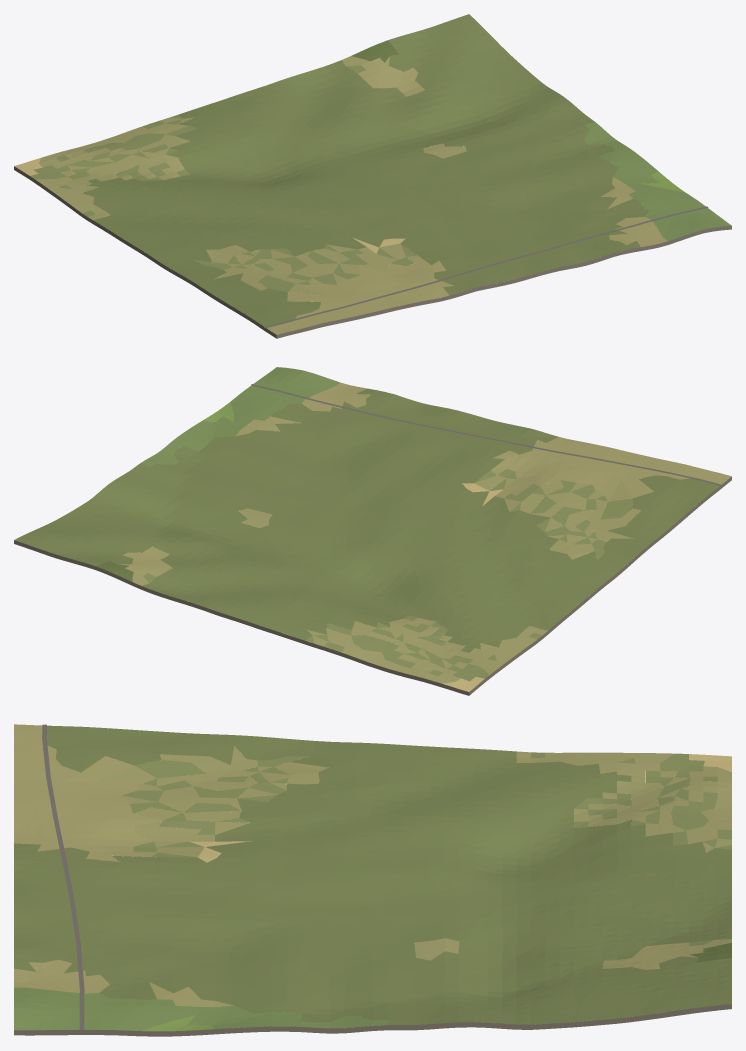
The model's file is parca_+5_-2-uzak.glb.
3 renders of one model, top to bottom at view 1: azimuth 30°, elevation 25°; view 2: azimuth 150°, elevation 25°; view 3: azimuth 270°, elevation 25°, orthographic. The views are drawn at different scales.
Parts seen in each view (by area): view 1: parca_+5_-2_arazi_uzak, parca_+5_-2_yollar_uzak; view 2: parca_+5_-2_arazi_uzak, parca_+5_-2_yollar_uzak; view 3: parca_+5_-2_arazi_uzak, parca_+5_-2_yollar_uzak.
Part boxes in pixels (bbox=[...]): parca_+5_-2_arazi_uzak: bbox=[14, 14, 731, 338]; parca_+5_-2_yollar_uzak: bbox=[264, 206, 708, 328]; parca_+5_-2_arazi_uzak: bbox=[14, 367, 731, 695]; parca_+5_-2_yollar_uzak: bbox=[251, 384, 721, 485]; parca_+5_-2_arazi_uzak: bbox=[14, 724, 731, 1036]; parca_+5_-2_yollar_uzak: bbox=[42, 724, 84, 1029].
Size of the model in its own units: 1004 by 93.98 by 1000.
